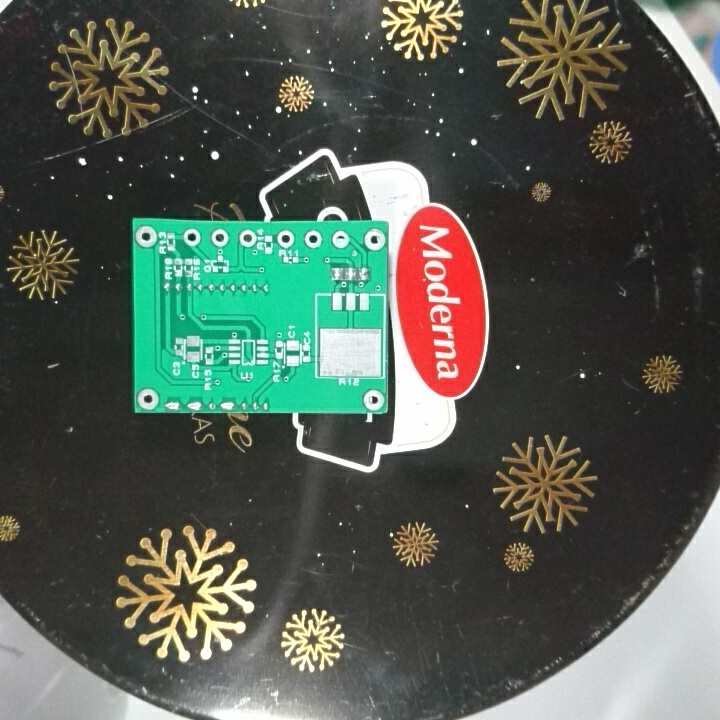F: (362, 226, 388, 252), (134, 223, 158, 250), (137, 386, 160, 412), (362, 387, 386, 411), (301, 227, 325, 251), (209, 227, 232, 250), (330, 226, 351, 250), (180, 226, 202, 248), (237, 228, 258, 249), (274, 229, 295, 250)
P: (183, 398, 205, 413), (160, 398, 182, 412), (218, 398, 237, 412)
